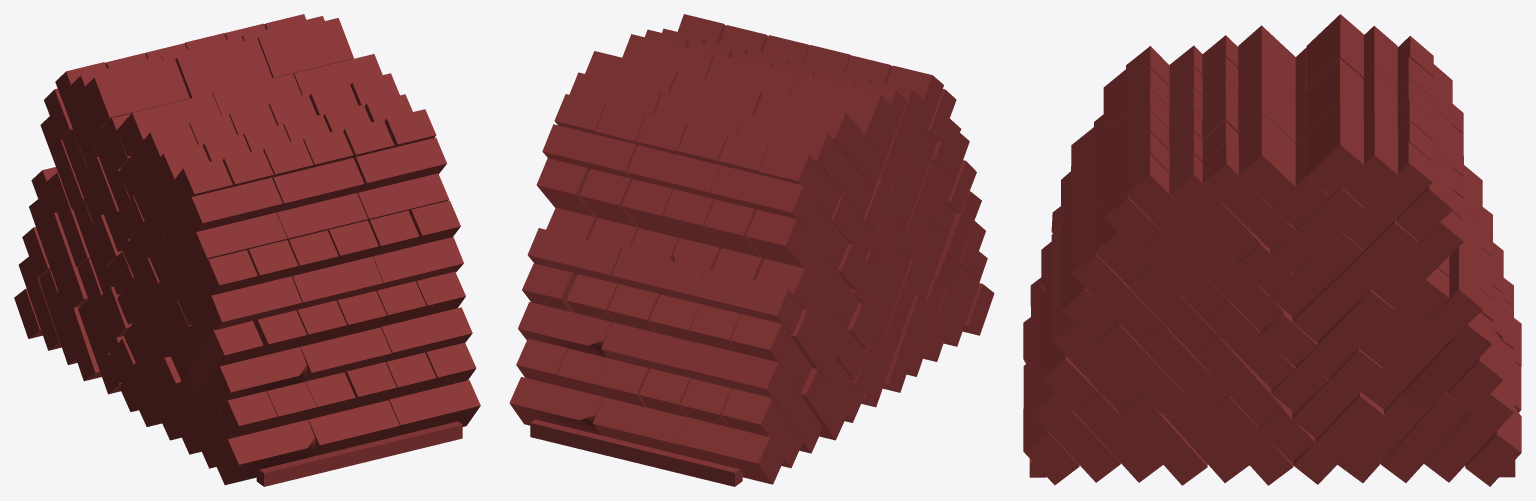
Rendered from SM_BricksPack04.fbx.
3 views of the same model, side by side, from view 1: azimuth 30°, elevation 25°; view 2: azimuth 150°, elevation 25°; view 3: azimuth 270°, elevation 25° (orthographic). The views are drawn at different scales.
Visible parts, largest first — view 1: BricksPack04; view 2: BricksPack04; view 3: BricksPack04.
Boxes of the visible parts, bbox=[...] form: BricksPack04: bbox=[14, 14, 480, 486]; BricksPack04: bbox=[509, 14, 994, 486]; BricksPack04: bbox=[1023, 14, 1521, 486].
Bounding box in the file's own units: 77.17 × 93.28 × 123.
